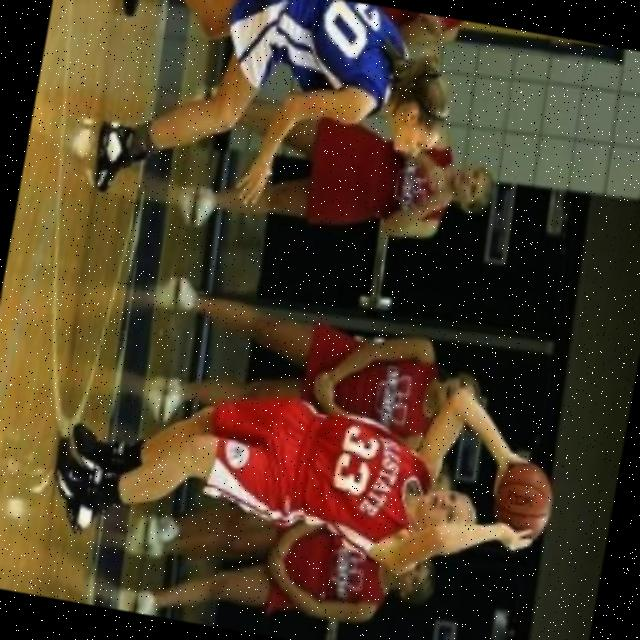ball: (476, 451, 564, 539)
